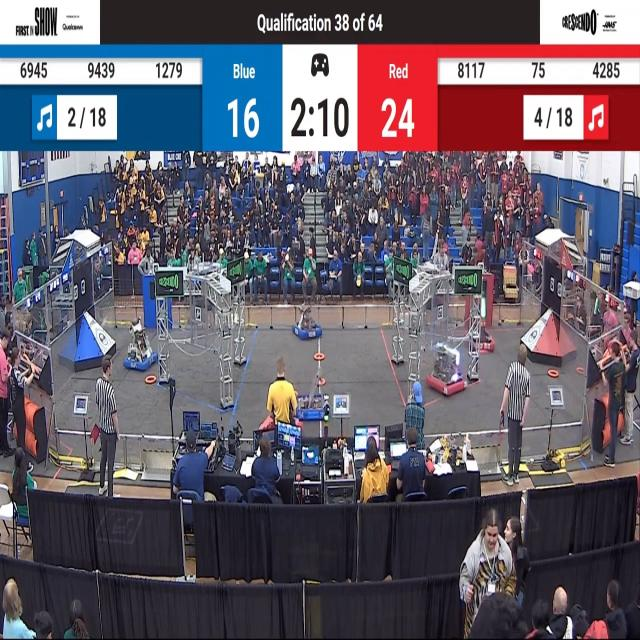Robot: (426, 336, 468, 400), (466, 294, 496, 360), (298, 373, 332, 425), (125, 321, 157, 376), (291, 302, 321, 345)
